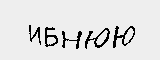Б: (43, 24, 59, 49)
И: (27, 22, 44, 46)
Н: (60, 30, 83, 50)
Ю: (111, 24, 138, 49), (83, 29, 112, 51)
